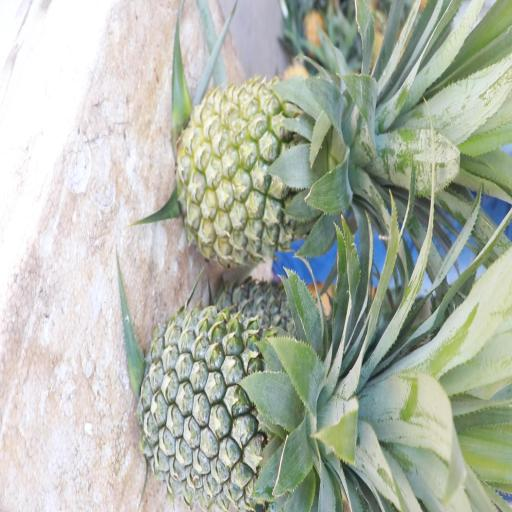Pineapple - v8 v1: (178, 79, 360, 254)
